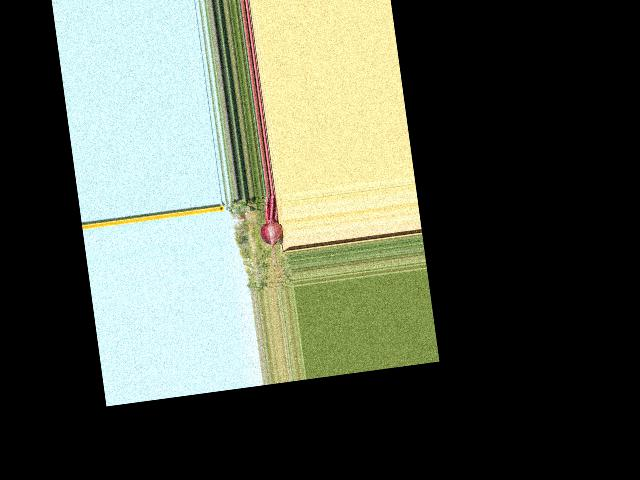beet: (255, 192, 290, 287)
